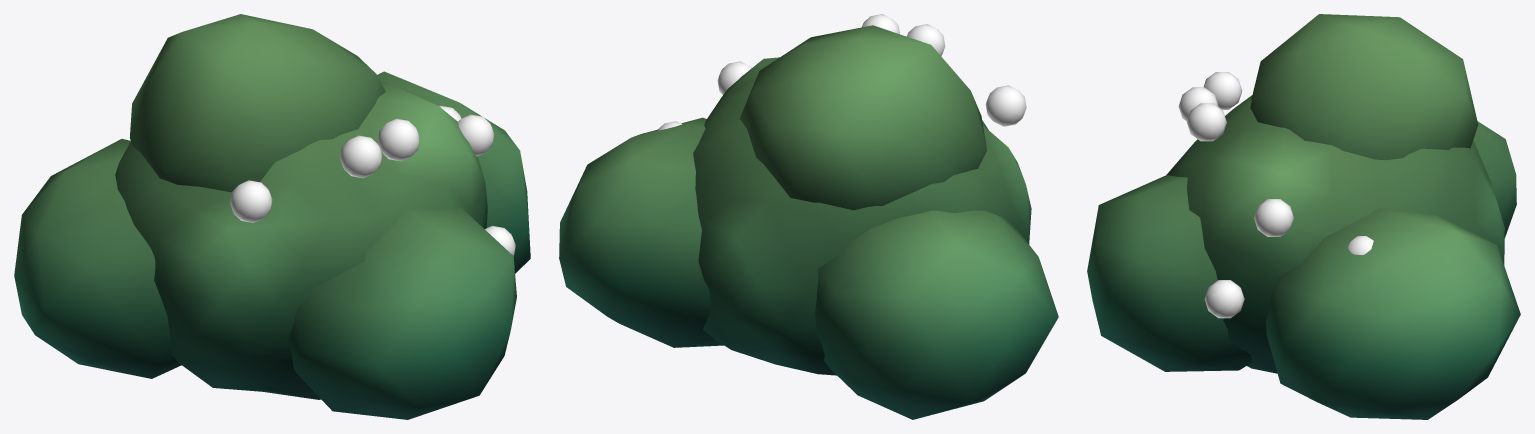
The model's file is bush.glb.
3 renders of one model, left to right at view 1: azimuth 30°, elevation 25°; view 2: azimuth 150°, elevation 25°; view 3: azimuth 270°, elevation 25°, orthographic. The views are drawn at different scales.
Visible parts, largest first — view 1: bush_body, bush_glow; view 2: bush_body, bush_glow; view 3: bush_body, bush_glow.
Boxes of the visible parts, bbox=[...] form: bush_body: bbox=[14, 14, 530, 419]; bush_glow: bbox=[230, 105, 515, 256]; bush_body: bbox=[559, 25, 1058, 419]; bush_glow: bbox=[657, 14, 1026, 130]; bush_body: bbox=[1087, 14, 1520, 419]; bush_glow: bbox=[1178, 72, 1373, 318].
Size of the model in its own units: 1.79 by 1.24 by 1.51.
